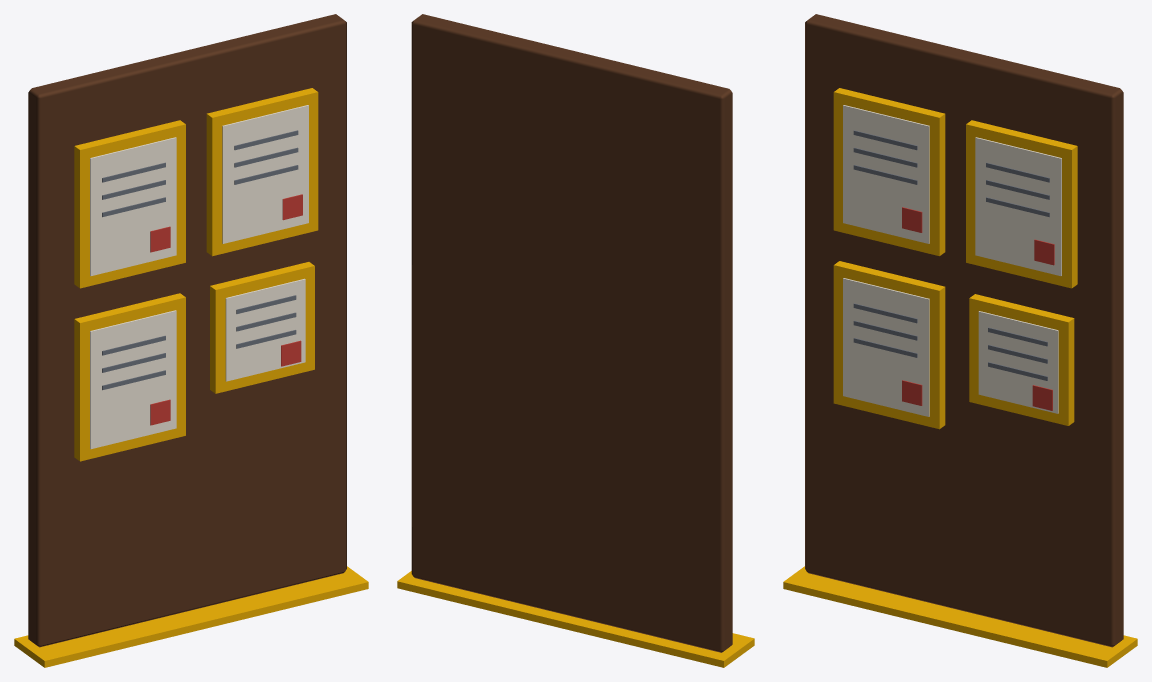
Rendered from station_processing_ausstattung_1_1.glb.
3 views of the same model, side by side, from view 1: azimuth 30°, elevation 25°; view 2: azimuth 150°, elevation 25°; view 3: azimuth 330°, elevation 25° (orthographic).
Parts seen in each view (by area): view 1: station_processing_ausstattung_1_1; view 2: station_processing_ausstattung_1_1; view 3: station_processing_ausstattung_1_1.
Boxes of the visible parts, <box> form: station_processing_ausstattung_1_1: <box>14,14,368,667</box>; station_processing_ausstattung_1_1: <box>397,14,754,667</box>; station_processing_ausstattung_1_1: <box>783,14,1137,667</box>.
Bounding box in the file's own units: 0.98 × 1.62 × 0.16.
